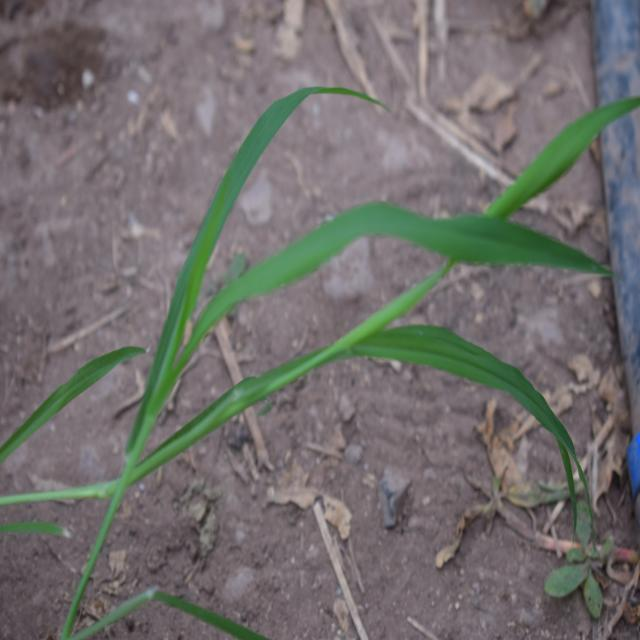crabgrass: (74, 80, 610, 524)
